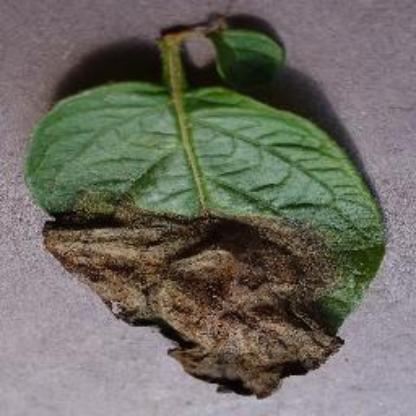Late-Blight: (17, 45, 390, 397)
